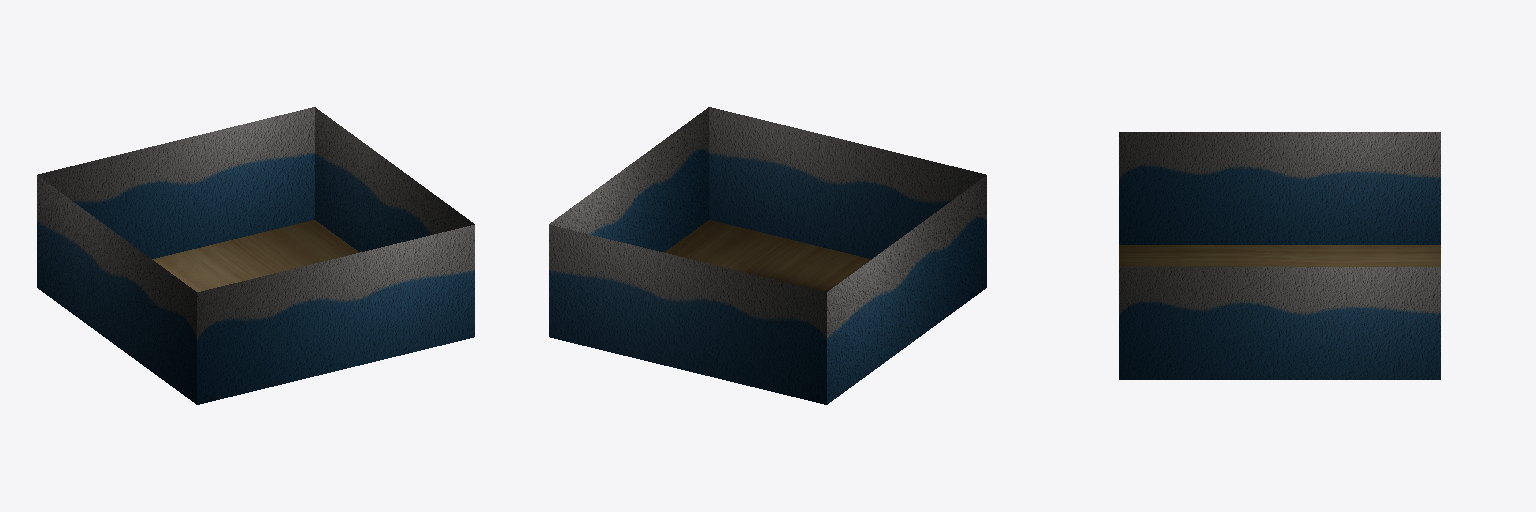
The picture shows the model from 3 angles: view 1: azimuth 30°, elevation 25°; view 2: azimuth 150°, elevation 25°; view 3: azimuth 270°, elevation 25°; orthographic projection.
Parts seen in each view (by area): view 1: Plane; view 2: Plane; view 3: Plane.
Part boxes in pixels (x1,y1,x2,y2): Plane: (37, 107, 474, 404); Plane: (549, 107, 986, 404); Plane: (1119, 132, 1440, 379).
Bounding box in the file's own units: 7.74 × 3 × 7.74.
1 materials, 1 textured.